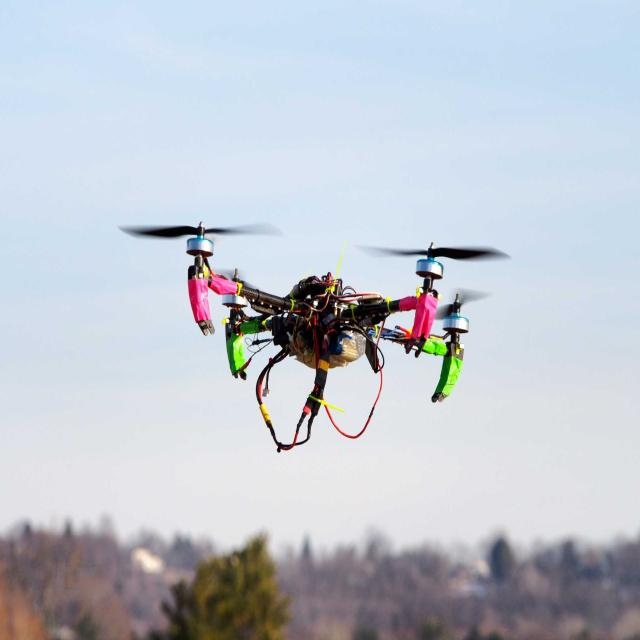drone: (118, 217, 514, 451)
